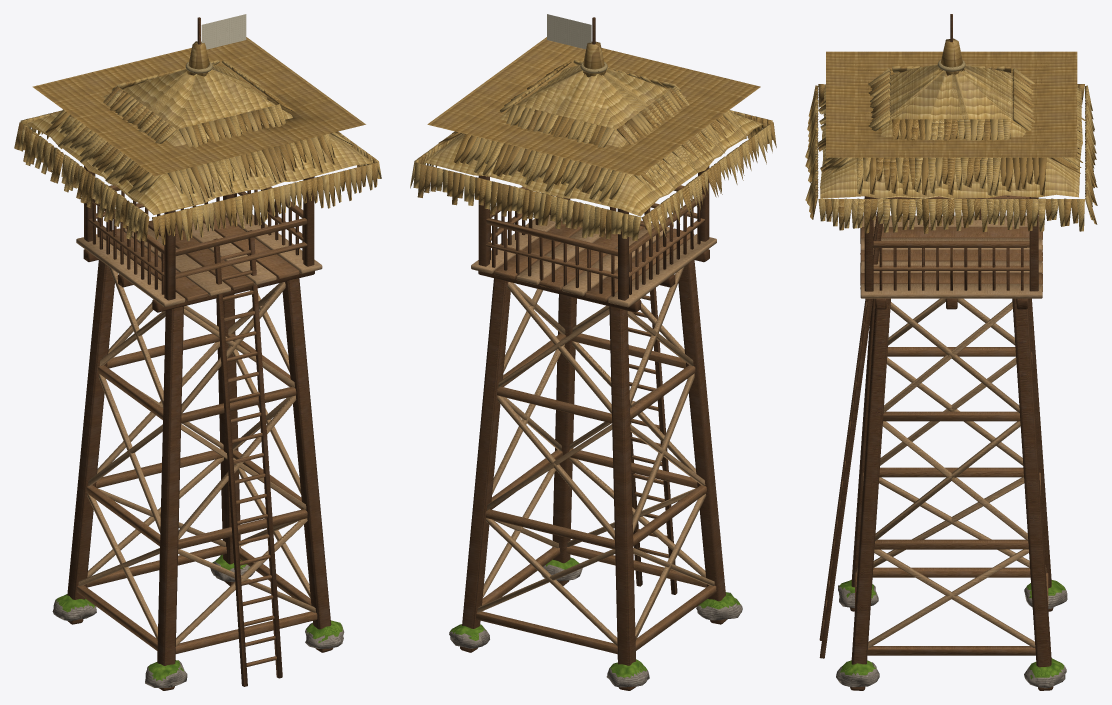
Rendered from watchtower.glb.
3 renders of one model, left to right at view 1: azimuth 30°, elevation 25°; view 2: azimuth 150°, elevation 25°; view 3: azimuth 270°, elevation 25°, orthographic. The views are drawn at different scales.
Parts seen in each view (by area): view 1: watchtower_Wood_Dark, watchtower_Thatch_Dark, watchtower_Thatch, watchtower_Wood_Light, watchtower_Wood_Plank, watchtower_Rock, watchtower_Rock_Moss, watchtower_Cloth; view 2: watchtower_Wood_Dark, watchtower_Thatch_Dark, watchtower_Thatch, watchtower_Wood_Light, watchtower_Wood_Plank, watchtower_Rock, watchtower_Rock_Moss, watchtower_Cloth; view 3: watchtower_Thatch_Dark, watchtower_Thatch, watchtower_Wood_Dark, watchtower_Wood_Plank, watchtower_Wood_Light, watchtower_Rock, watchtower_Rock_Moss.
Part boxes in pixels (box(x1,y1,x2,y2)): watchtower_Wood_Dark: box(67, 17, 333, 690); watchtower_Thatch_Dark: box(14, 37, 377, 245); watchtower_Thatch: box(18, 59, 381, 241); watchtower_Wood_Light: box(76, 210, 322, 646); watchtower_Wood_Plank: box(76, 185, 317, 666); watchtower_Rock: box(52, 559, 344, 687); watchtower_Rock_Moss: box(55, 554, 342, 680); watchtower_Cloth: box(201, 14, 246, 49); watchtower_Wood_Dark: box(460, 17, 727, 690); watchtower_Thatch_Dark: box(417, 37, 776, 240); watchtower_Thatch: box(410, 59, 772, 240); watchtower_Wood_Light: box(471, 214, 716, 646); watchtower_Wood_Plank: box(476, 185, 716, 654); watchtower_Rock: box(449, 564, 742, 687); watchtower_Rock_Moss: box(450, 557, 740, 677); watchtower_Cloth: box(547, 14, 591, 49); watchtower_Thatch_Dark: box(805, 38, 1097, 233); watchtower_Thatch: box(805, 64, 1096, 232); watchtower_Wood_Dark: box(819, 14, 1053, 690); watchtower_Wood_Plank: box(823, 195, 1048, 655); watchtower_Wood_Light: box(856, 215, 1046, 648); watchtower_Rock: box(836, 585, 1067, 688); watchtower_Rock_Moss: box(839, 580, 1065, 679).
Size of the model in its own units: 4.96 by 11.91 by 4.97.
9 materials, 9 textured.
